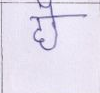ai_matra: (38, 1, 58, 15)
